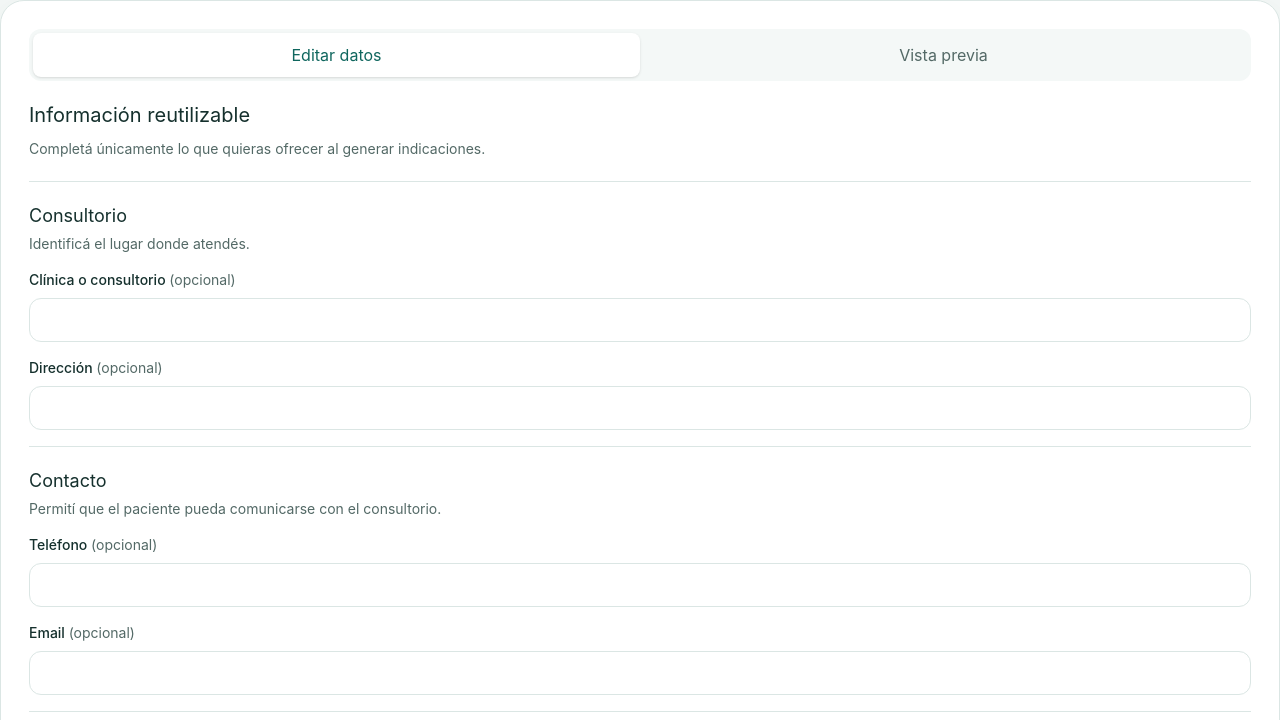
Scenario: opens a larger preview of the draft and returns focus without saving
This screenshot has width=1280, height=720.
Step 1. Type "Consultorio de prueba" into the field labelled "Clínica o consultorio (opcional)" → (640, 320), box [29, 298, 1251, 342]
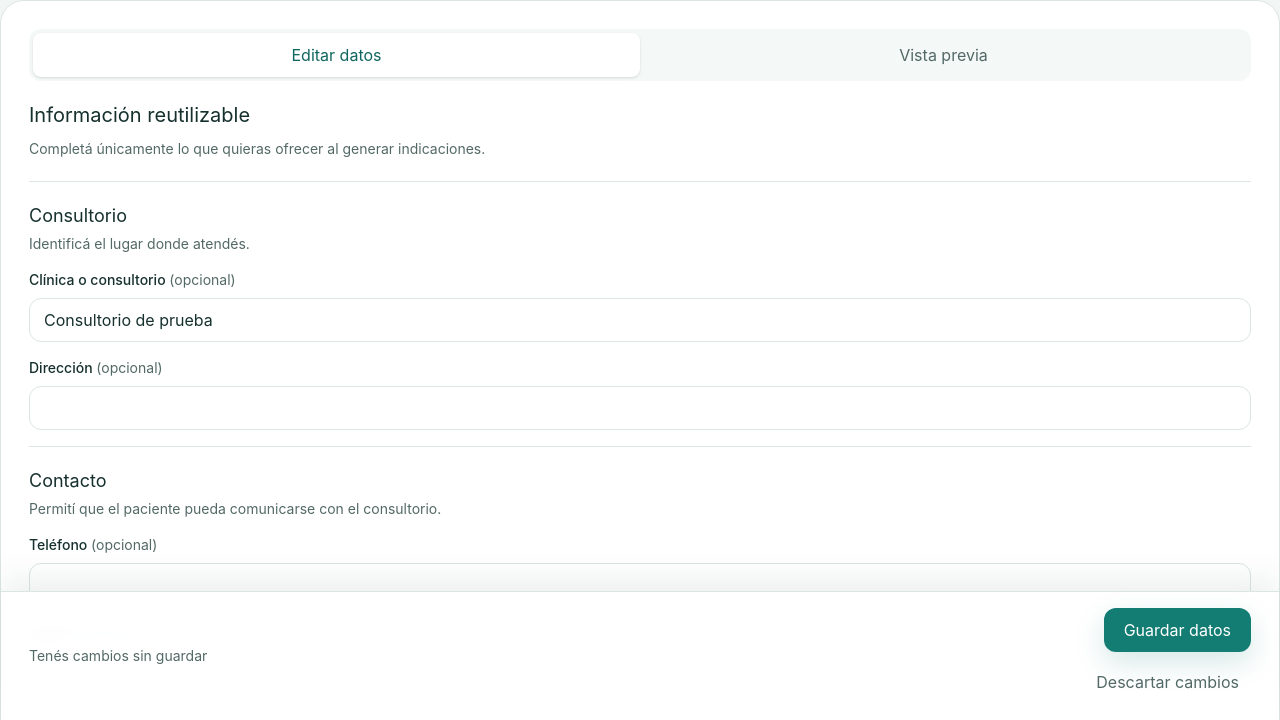
Step 2. Click the button "Vista previa" → (944, 55), box [640, 33, 1247, 77]
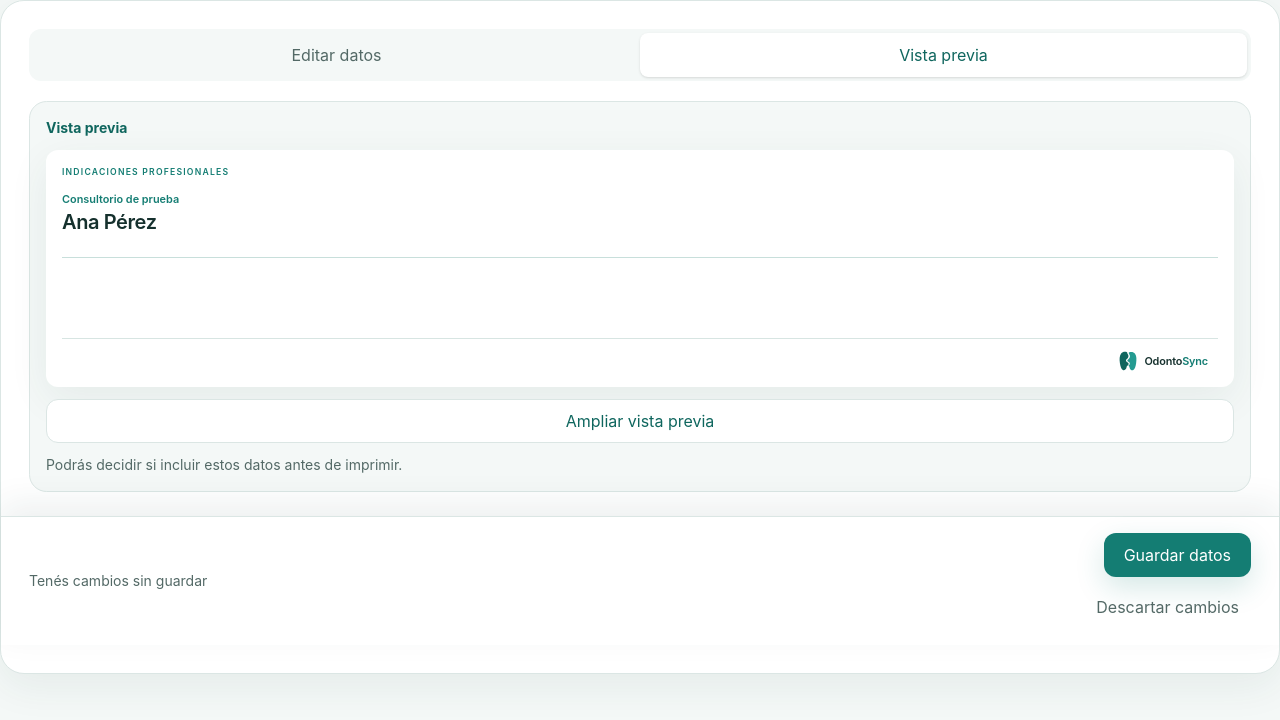
Step 3. Click the button "Ampliar vista previa" → (640, 421), box [46, 399, 1234, 443]
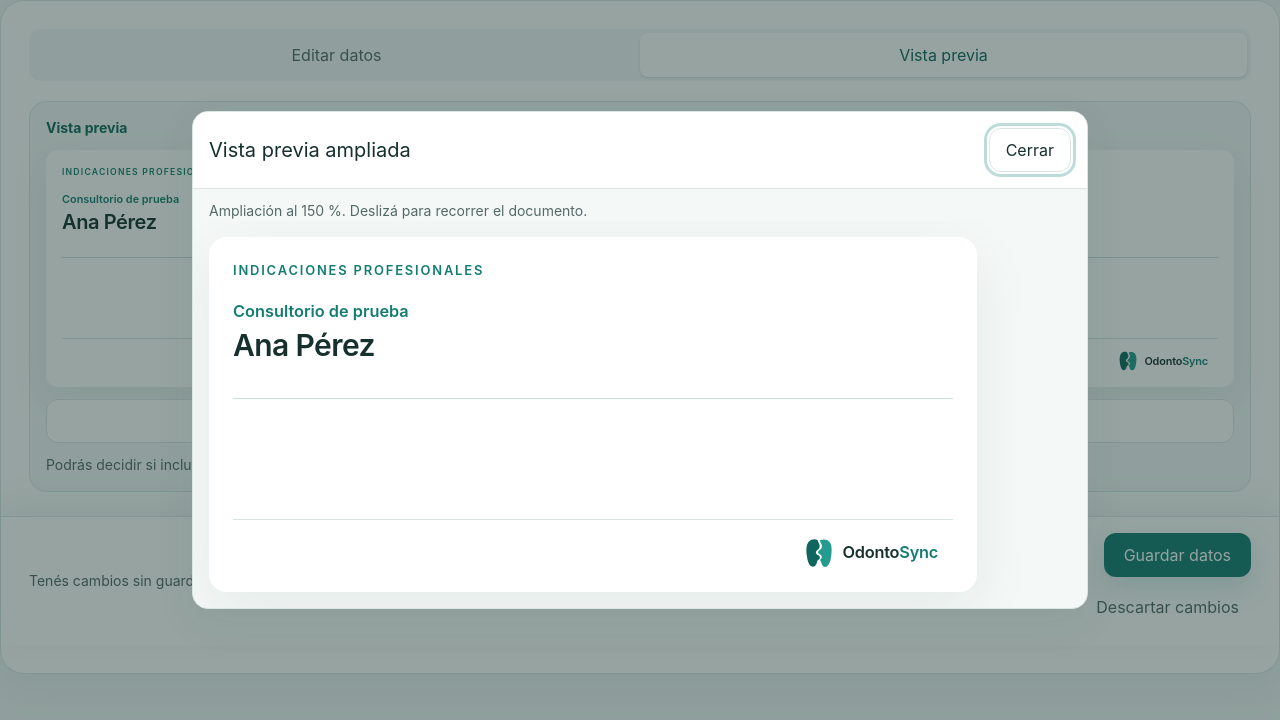
Now the text "Consultorio de prueba" is shown, box [233, 301, 409, 321]
Step 4. Click the button "Cerrar" → (1030, 150), box [989, 128, 1071, 172]
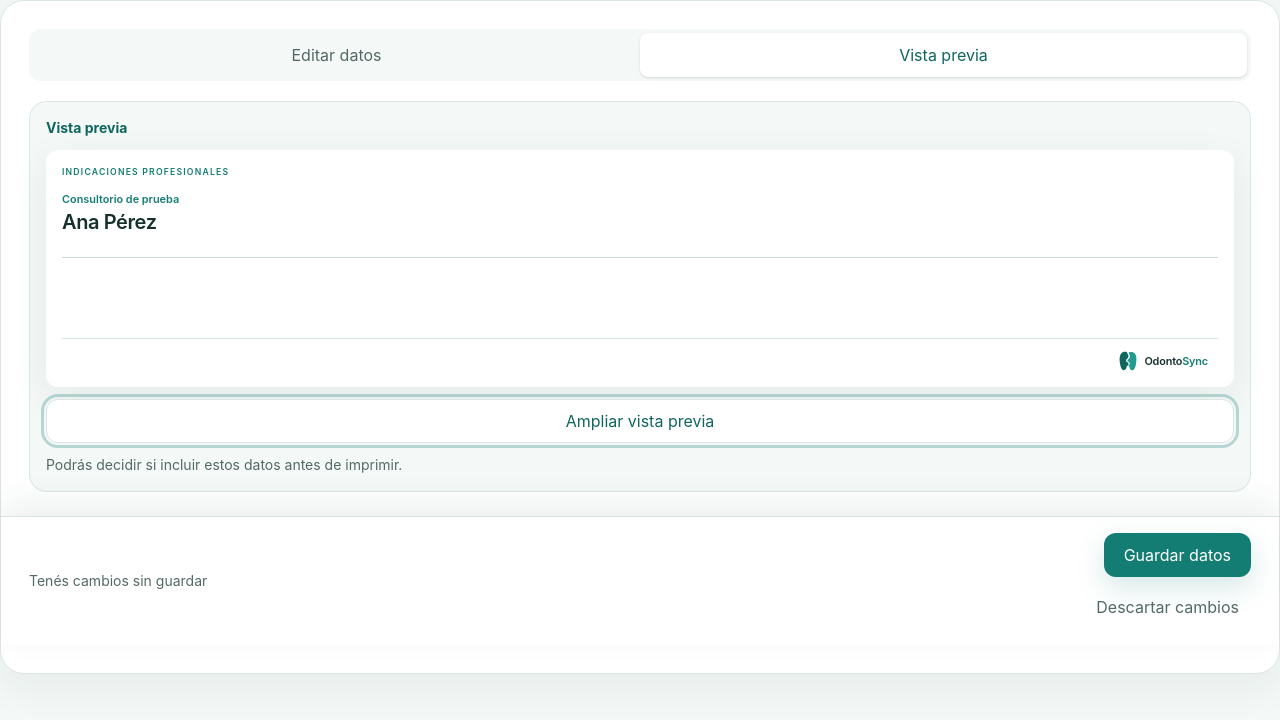
Now the text "Tenés cambios sin guardar" is shown, box [29, 571, 207, 591]
Now the dialog is gone
